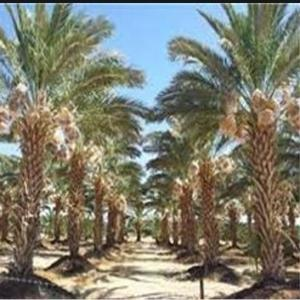palm tree: (0, 2, 147, 277), (159, 2, 299, 287)
